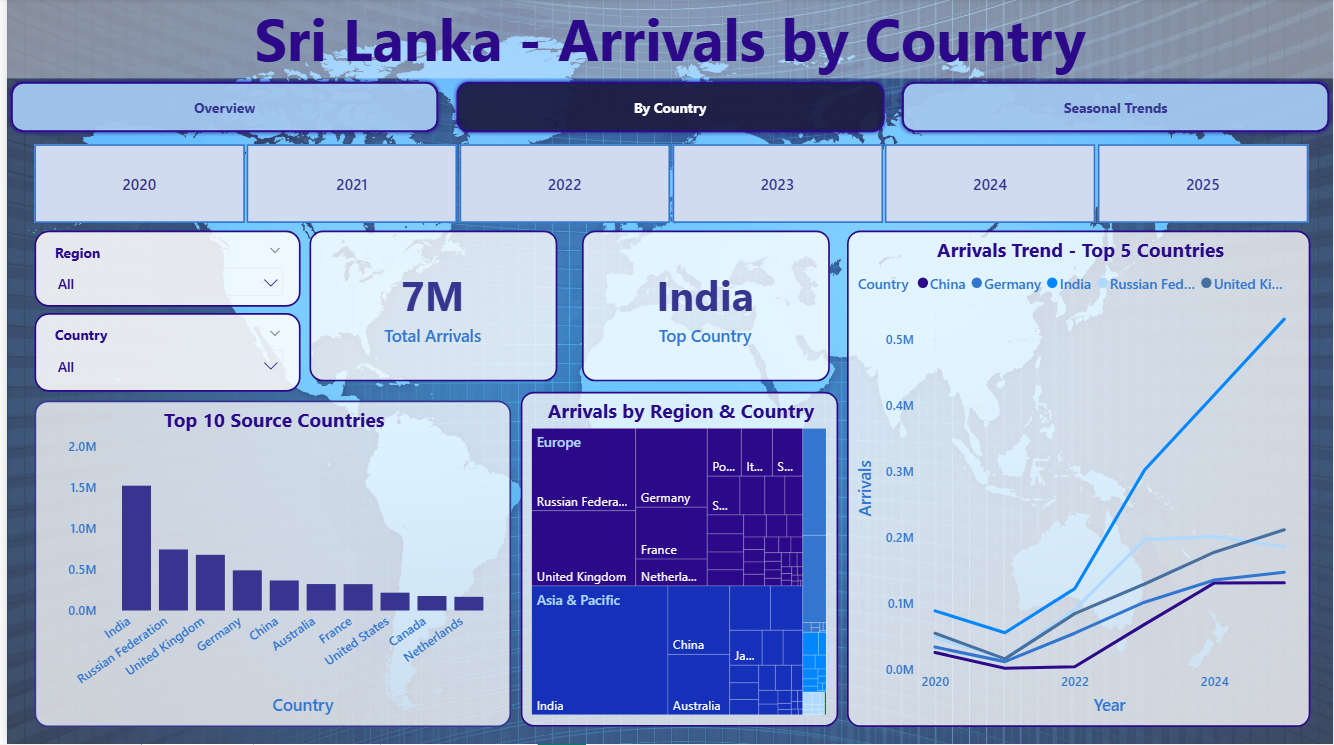

The dashboard page shown, as its layout file describes it:
{"tool":"powerbi","page":{"name":"By Country","canvas":[1280,720],"ordinal":1},"visuals":[{"type":"textbox","title":"Sri Lanka - Arrivals by Country","box":[0,0,1280,77.2],"z":0},{"type":"card","fields":{"Values":["Sum(Fact_Country_Annual.Total_Arrivals)"]},"box":[292,224.4,238.9,146],"z":1000},{"type":"columnChart","title":"Top 10 Source Countries","fields":{"Category":["Fact_Country_Annual.Country"],"Y":["Sum(Fact_Country_Annual.Total_Arrivals)"]},"box":[26.5,388.5,459.7,314.9],"z":2000},{"type":"slicer","fields":{"Values":["Fact_Country_Annual.Region"]},"box":[26.5,224.4,257,73.6],"z":3000},{"type":"lineChart","title":"Arrivals Trend - Top 5 Countries","fields":{"Category":["Fact_Country_Annual.Year"],"Y":["Sum(Fact_Country_Annual.Total_Arrivals)"],"Series":["Fact_Country_Annual.Country"]},"box":[810.7,224.4,447.6,479],"z":4000},{"type":"treemap","title":"Arrivals by Region & Country","fields":{"Group":["Fact_Country_Annual.Region"],"Details":["Fact_Country_Annual.Country"],"Values":["Sum(Fact_Country_Annual.Total_Arrivals)"]},"box":[495.8,380,306.4,323.3],"z":5000},{"type":"pageNavigator","box":[0,77.2,1280,56.7],"z":6000},{"type":"card","fields":{"Values":["_Measures.Top Country"]},"box":[555,224.4,238.9,146],"z":7000},{"type":"slicer","fields":{"Values":["Fact_Country_Annual.Year"]},"box":[0,133.9,1280,90.5],"z":8000},{"type":"slicer","fields":{"Values":["Fact_Country_Annual.Country"]},"box":[26.5,304,257,76],"z":9000}]}

Visuals, with their boxes in screenshot pixels (x1, y1, x2, y2), scaled from the page's 1280x720 canvas onto the 1334x745 screenshot:
"Sri Lanka - Arrivals by Country" textbox: [x1=0, y1=0, x2=1333, y2=80]
card - Sum(Fact_Country_Annual.Total_Arrivals): [x1=304, y1=232, x2=553, y2=383]
"Top 10 Source Countries" columnChart: [x1=28, y1=402, x2=507, y2=728]
slicer - Fact_Country_Annual.Region: [x1=28, y1=232, x2=295, y2=308]
"Arrivals Trend - Top 5 Countries" lineChart: [x1=845, y1=232, x2=1311, y2=728]
"Arrivals by Region & Country" treemap: [x1=517, y1=393, x2=836, y2=728]
pageNavigator: [x1=0, y1=80, x2=1333, y2=139]
card - _Measures.Top Country: [x1=578, y1=232, x2=827, y2=383]
slicer - Fact_Country_Annual.Year: [x1=0, y1=139, x2=1333, y2=232]
slicer - Fact_Country_Annual.Country: [x1=28, y1=315, x2=295, y2=393]
